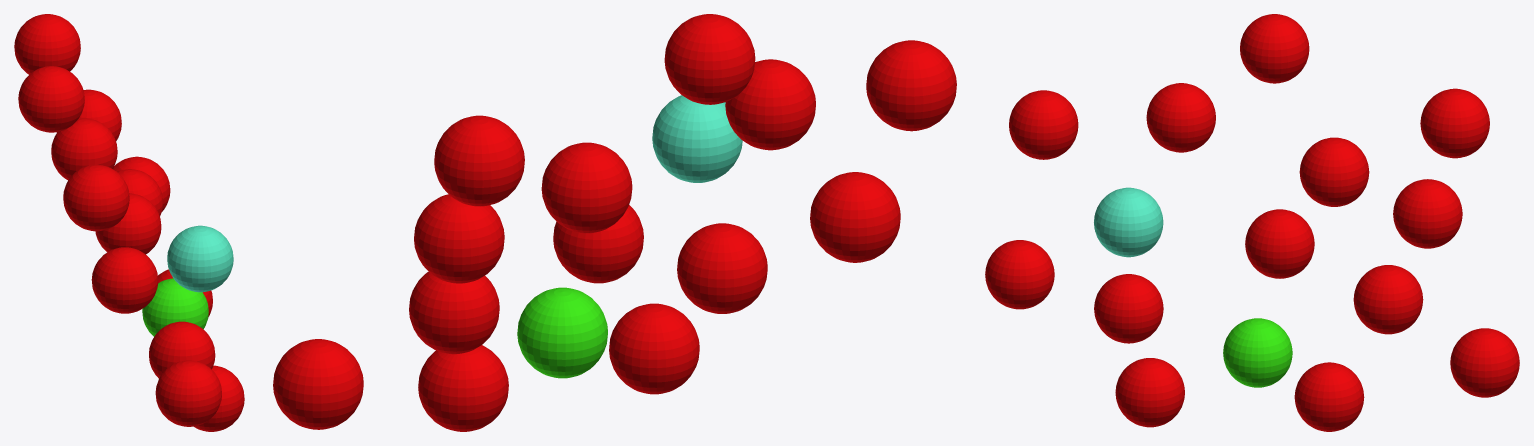
3 views of the same model, side by side, from view 1: azimuth 30°, elevation 25°; view 2: azimuth 150°, elevation 25°; view 3: azimuth 270°, elevation 25° (orthographic). The views are drawn at different scales.
Visible parts, largest first — view 1: sphere1_mesh.003, sphere1_mesh.011, sphere2_mesh, sphere1_mesh.010, sphere1_mesh.004, sphere1_mesh.012, sphere1_mesh.002, sphere1_mesh.005, sphere1_mesh.001, sphere1_mesh.013, sphere1_mesh.009, sphere1_mesh.008 (+3 smaller); view 2: sphere1_mesh.002, sphere1_mesh.004, sphere1_mesh.007, sphere1_mesh.005, sphere1_mesh.001, sphere1_mesh.012, sphere1_mesh.010, sphere1_mesh.009, sphere1_mesh.011, sphere1_mesh.008, sphere1_mesh.006, sphere1_mesh.003 (+3 smaller); view 3: sphere1_mesh.008, sphere1_mesh.013, sphere1_mesh.001, sphere1_mesh.007, sphere1_mesh.012, sphere1_mesh.002, sphere2_mesh, sphere1_mesh.005, sphere1_mesh.010, sphere1_mesh, sphere1_mesh.004, sphere1_mesh.003 (+3 smaller).
Boxes of the visible parts, left/top/right/bottom form: sphere1_mesh.003: left=63, top=164, right=129, bottom=231; sphere1_mesh.011: left=18, top=66, right=84, bottom=132; sphere2_mesh: left=167, top=225, right=233, bottom=292; sphere1_mesh.010: left=91, top=247, right=158, bottom=313; sphere1_mesh.004: left=155, top=360, right=221, bottom=426; sphere1_mesh.012: left=14, top=14, right=80, bottom=74; sphere1_mesh.002: left=51, top=118, right=117, bottom=180; sphere1_mesh.005: left=149, top=321, right=215, bottom=378; sphere1_mesh.001: left=142, top=278, right=208, bottom=336; sphere1_mesh.013: left=95, top=193, right=161, bottom=254; sphere1_mesh.009: left=194, top=365, right=244, bottom=431; sphere1_mesh.008: left=56, top=89, right=121, bottom=141; sphere1_mesh.002: left=541, top=142, right=632, bottom=233; sphere1_mesh.004: left=810, top=172, right=900, bottom=262; sphere1_mesh.007: left=273, top=339, right=363, bottom=429; sphere1_mesh.005: left=677, top=223, right=767, bottom=313; sphere1_mesh.001: left=517, top=287, right=607, bottom=378; sphere1_mesh.012: left=434, top=115, right=524, bottom=206; sphere1_mesh.010: left=866, top=40, right=956, bottom=131; sphere1_mesh.009: left=609, top=303, right=699, bottom=394; sphere1_mesh.011: left=664, top=14, right=755, bottom=104; sphere1_mesh.008: left=414, top=194, right=504, bottom=283; sphere1_mesh.006: left=418, top=345, right=508, bottom=431; sphere1_mesh.003: left=725, top=59, right=815, bottom=150; sphere1_mesh.008: left=1393, top=179, right=1462, bottom=248; sphere1_mesh.013: left=1245, top=209, right=1314, bottom=278; sphere1_mesh.001: left=1223, top=318, right=1292, bottom=387; sphere1_mesh.007: left=1450, top=328, right=1519, bottom=397; sphere1_mesh.012: left=1420, top=88, right=1489, bottom=158; sphere1_mesh.002: left=1299, top=137, right=1369, bottom=206; sphere2_mesh: left=1094, top=187, right=1163, bottom=257; sphere1_mesh.005: left=1094, top=274, right=1163, bottom=343; sphere1_mesh.010: left=1009, top=90, right=1078, bottom=159; sphere1_mesh: left=1353, top=265, right=1423, bottom=334; sphere1_mesh.004: left=985, top=240, right=1054, bottom=309; sphere1_mesh.003: left=1146, top=83, right=1215, bottom=152.
Bounding box in the file's own units: 4.87 × 5.64 × 7.68.
